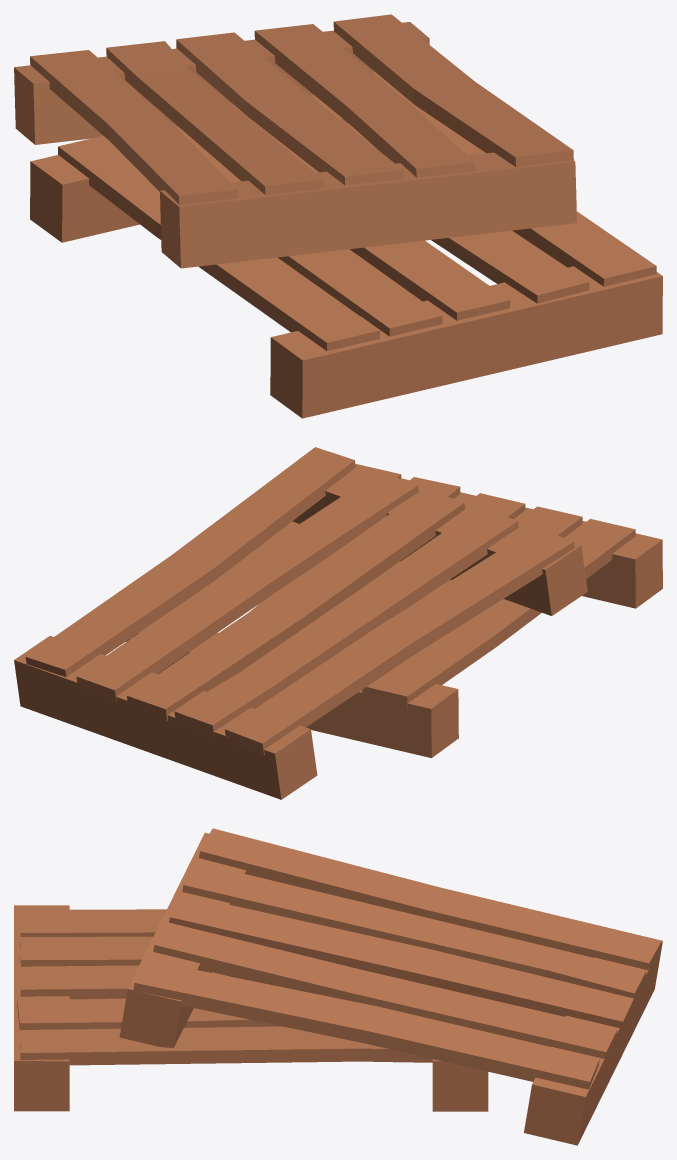
File: Palet1.fbx
3 renders of one model, top to bottom at view 1: azimuth 30°, elevation 25°; view 2: azimuth 150°, elevation 25°; view 3: azimuth 270°, elevation 25°, orthographic. The views are drawn at different scales.
Visible parts, largest first — view 1: Cube.001, Cube.002; view 2: Cube.001, Cube.002; view 3: Cube.001, Cube.002.
Part boxes in pixels (x1,y1,x2,y2): Cube.001: (14,14,576,268); Cube.002: (30,72,662,418); Cube.001: (14,447,587,799); Cube.002: (126,464,662,757); Cube.001: (119,828,662,1145); Cube.002: (14,905,488,1111).
Size of the model in its own units: 126 by 39.45 by 179.
